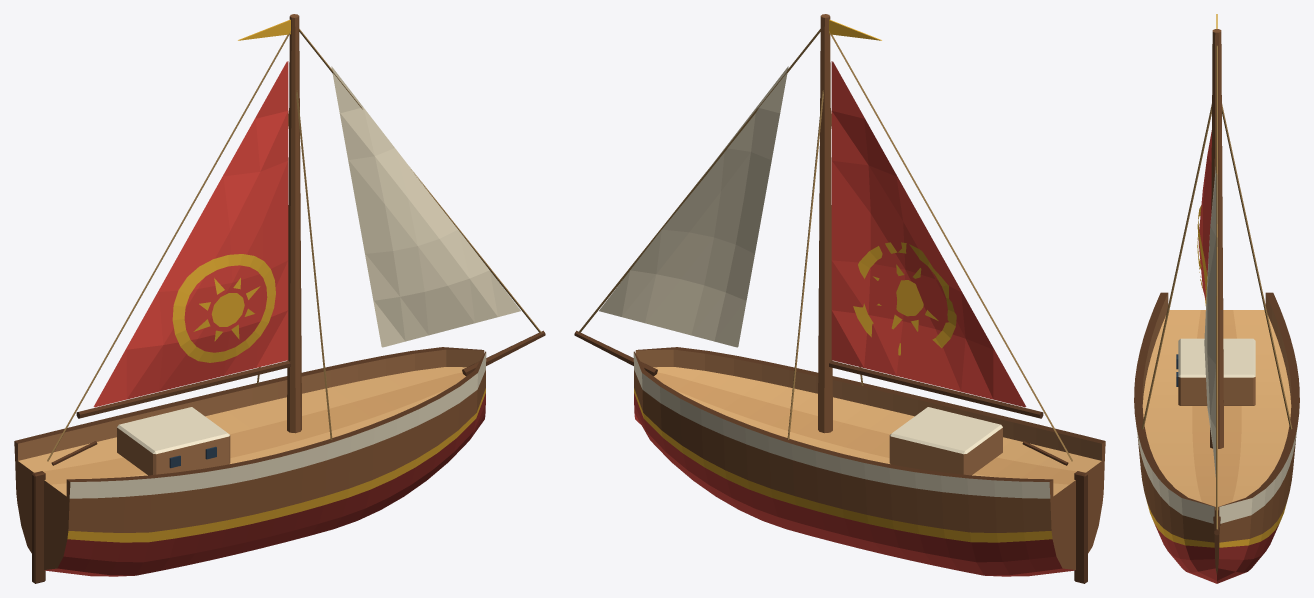
File: sloop.glb
3 renders of one model, left to right at view 1: azimuth 30°, elevation 25°; view 2: azimuth 150°, elevation 25°; view 3: azimuth 270°, elevation 25°, orthographic.
Parts seen in each view (by area): view 1: sloop; view 2: sloop; view 3: sloop.
Boxes of the visible parts, x1,y1,x2,y2 form: sloop: (14,14,545,583); sloop: (574,14,1105,583); sloop: (1134,14,1299,583).
Size of the model in its own units: 9.94 by 9.6 by 2.78.
Materials: 1 (1 with a texture image).
